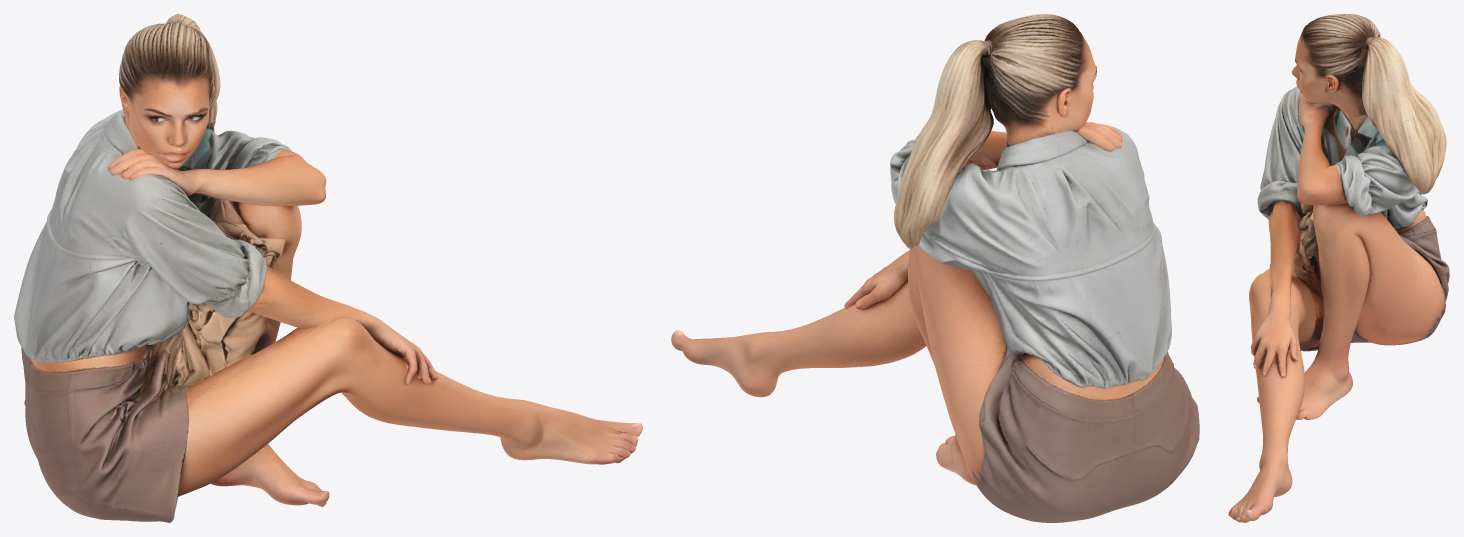
File: pose-floor-fast.glb
3 views of the same model, side by side, from view 1: azimuth 30°, elevation 25°; view 2: azimuth 150°, elevation 25°; view 3: azimuth 270°, elevation 25° (orthographic). The views are drawn at different scales.
Parts seen in each view (by area): view 1: Object_4; view 2: Object_4; view 3: Object_4.
Boxes of the visible parts, x1,y1,x2,y2 form: Object_4: [14, 14, 642, 522]; Object_4: [671, 14, 1199, 522]; Object_4: [1228, 14, 1449, 522].
Size of the model in its own units: 1.9 by 1.58 by 0.8726.
Materials: 1 (1 with a texture image).
